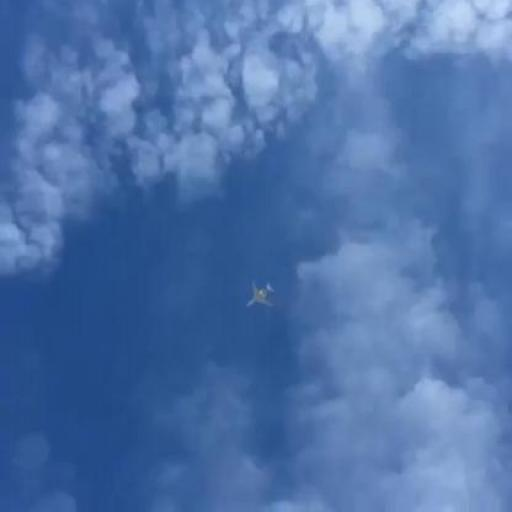aircraft: (244, 276, 278, 318)
